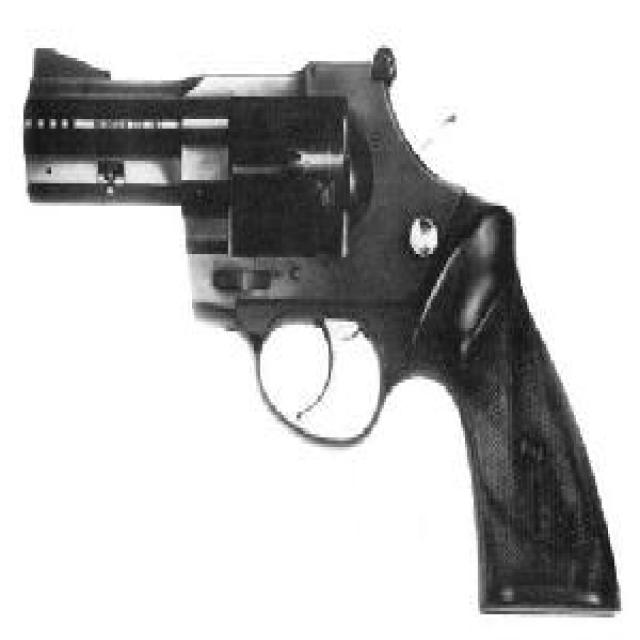pistol: (22, 39, 628, 614)
